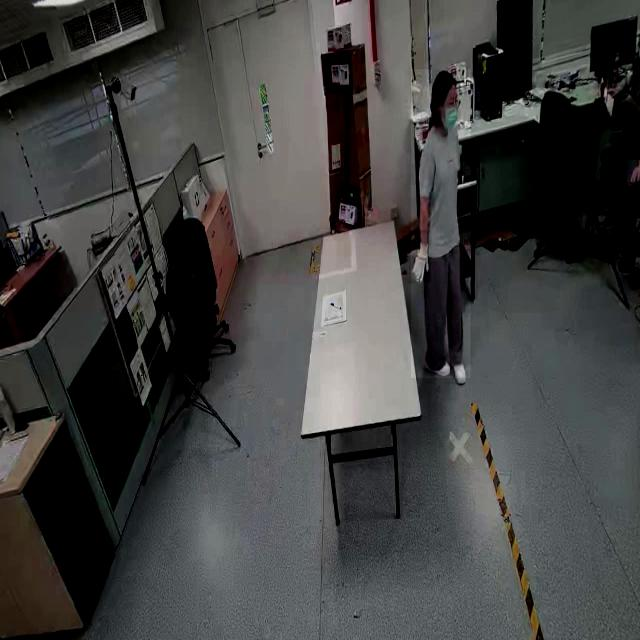face_mask: (440, 87, 460, 129)
hand_glove: (408, 230, 432, 284)
hand_noglove: (606, 79, 626, 99), (626, 160, 640, 187)
head_nohelmet: (432, 69, 458, 91)
person: (410, 69, 470, 379)
shoes: (422, 345, 452, 383), (451, 348, 468, 389)
